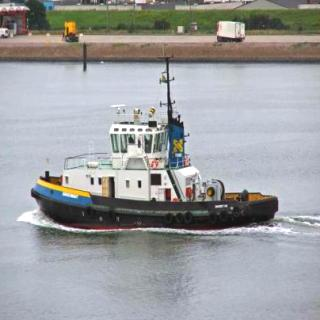Tug Boat: (38, 76, 278, 226)
